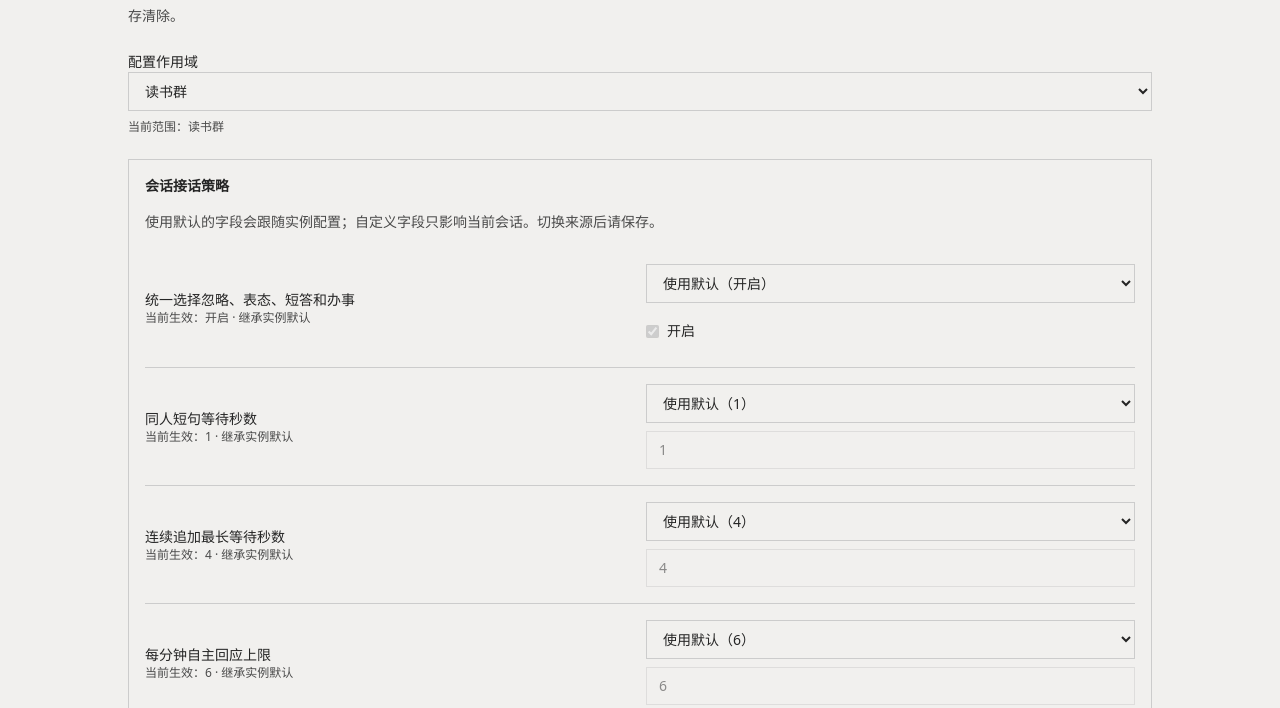
Test: 实例默认与逐项继承的读写合同 › 旧响应保留 topic 元数据时仍可编辑，保存不回传 topic；覆盖=false
Expected: the field labelled "同人短句等待秒数" is shown, [646,431,1135,469]
Select "自定义" in the 3rd dropdown at x=890, y=404, box [646,384,1135,423]
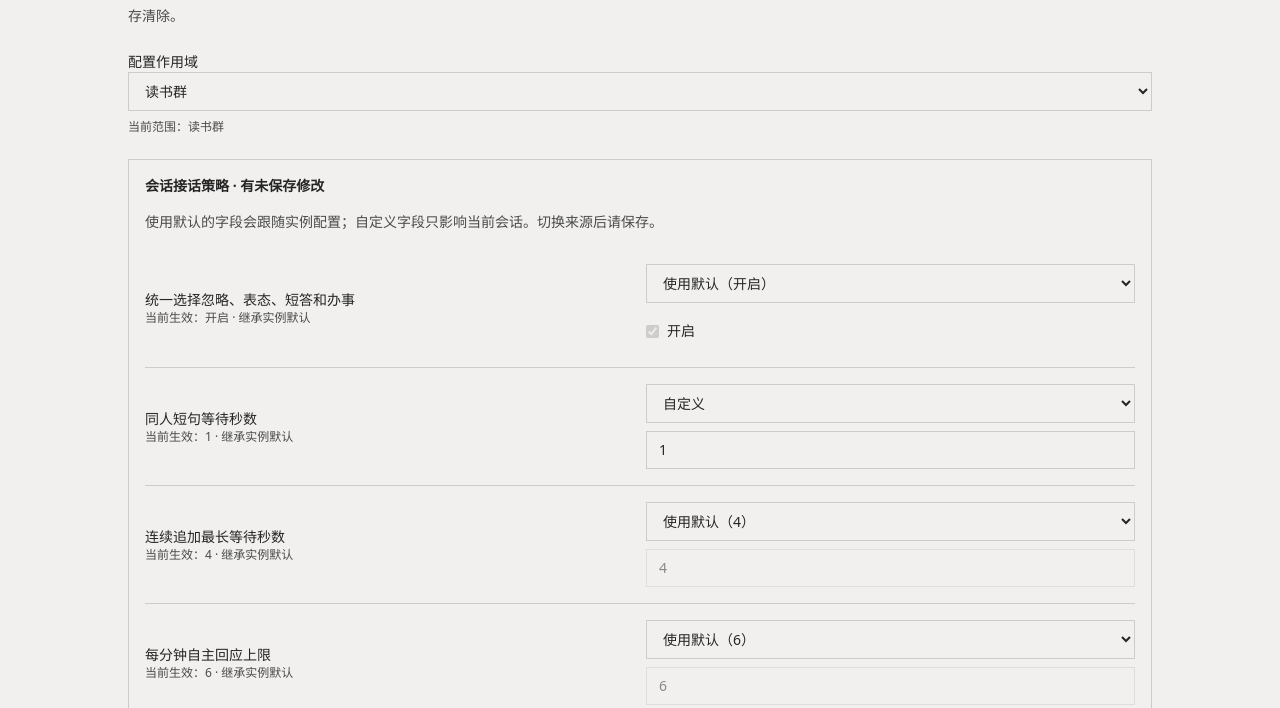
Replace the text in the field labelled "同人短句等待秒数" with "2" at x=890, y=450, box [646,431,1135,469]
(page scrolled)
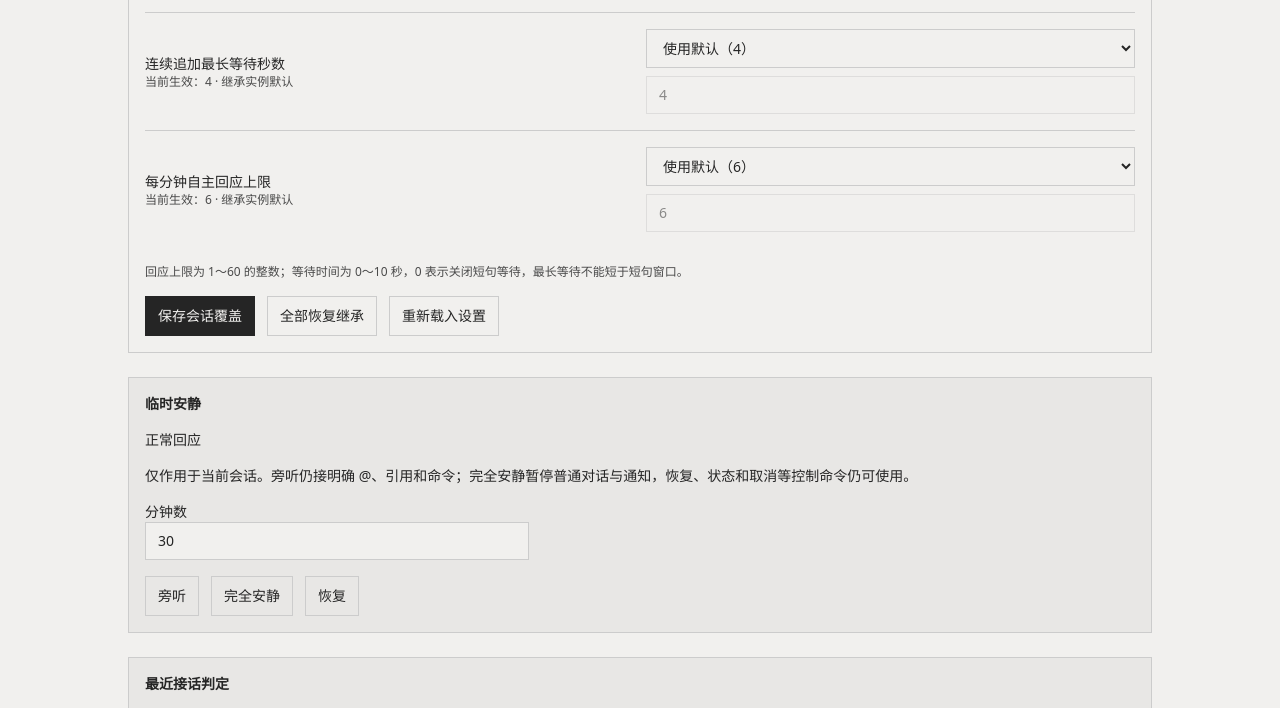
Click the button "保存会话覆盖" at x=200, y=316, box [145,296,255,336]
(page scrolled)
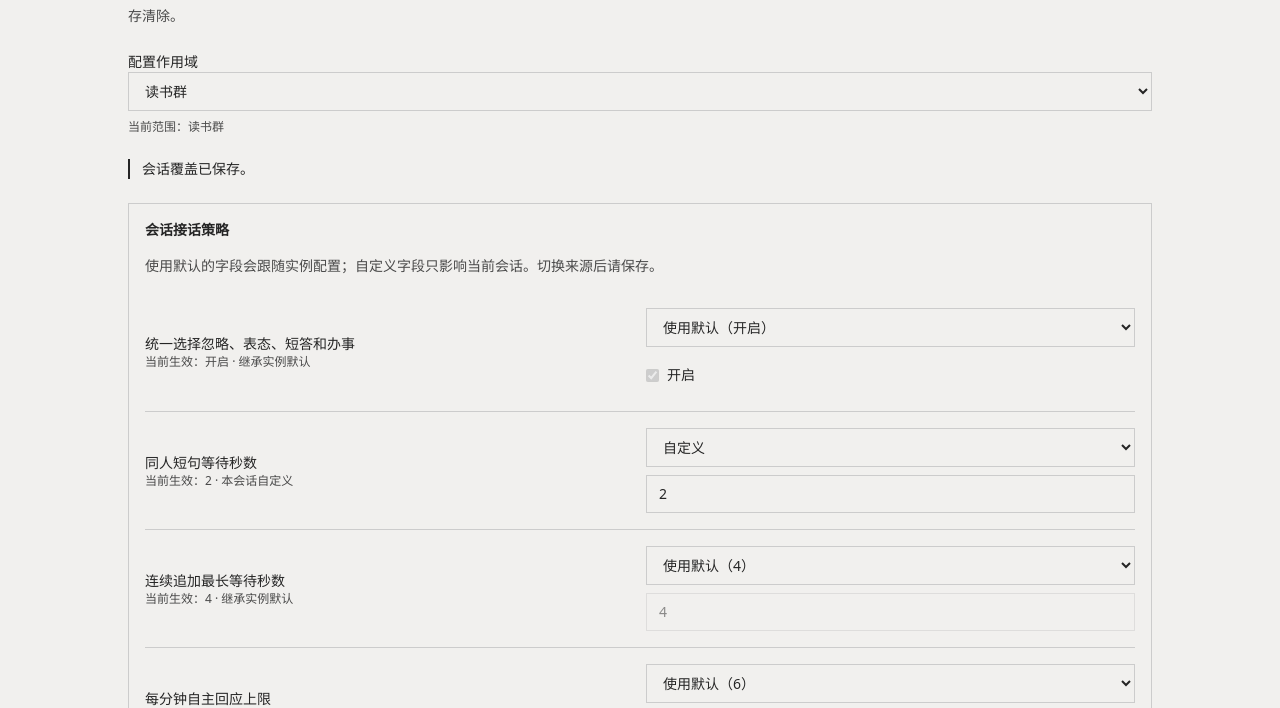
Expected: the text "会话覆盖已保存。" is shown, [128,159,1152,179]
